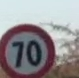limite 70: (0, 21, 55, 78)
